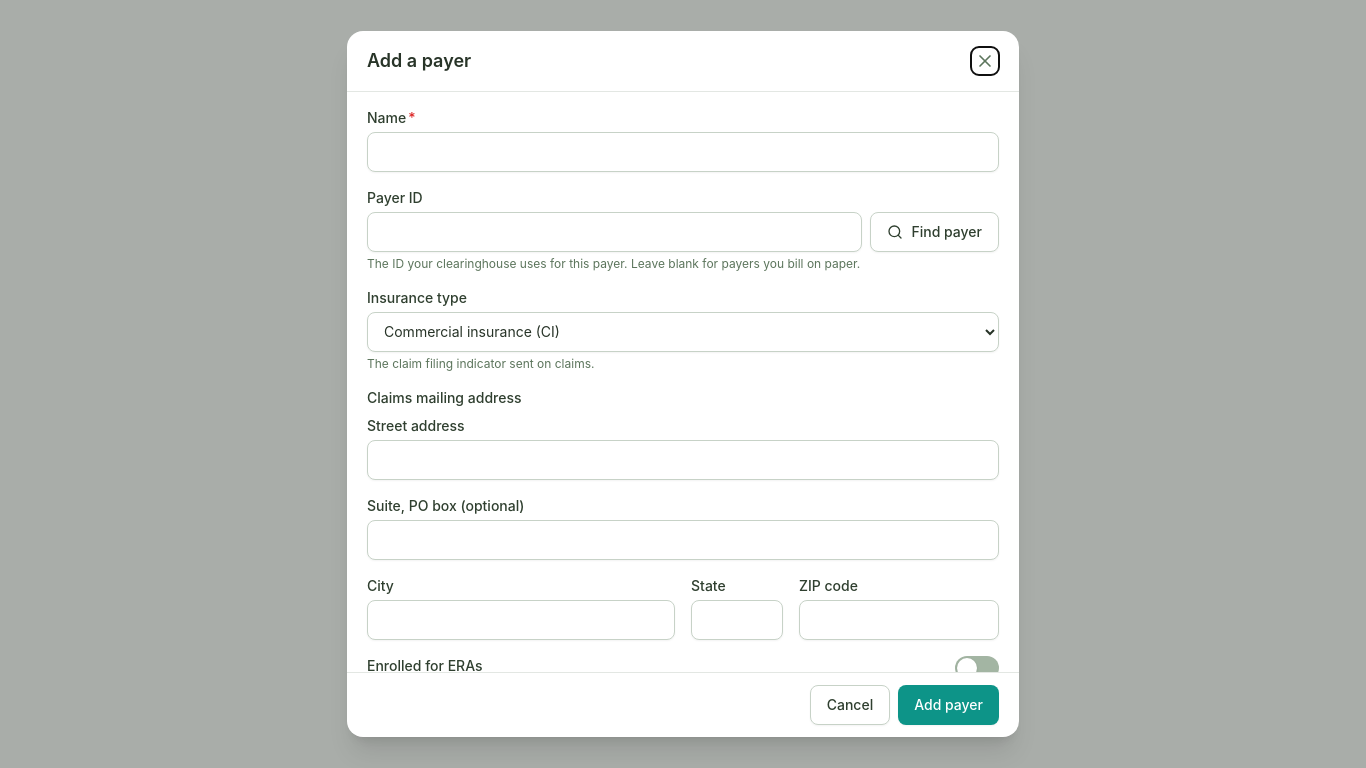
adding a payer › explains when the clearinghouse search fails
Click the button "Find payer". click: (935, 232)
box: [870,212,999,252]
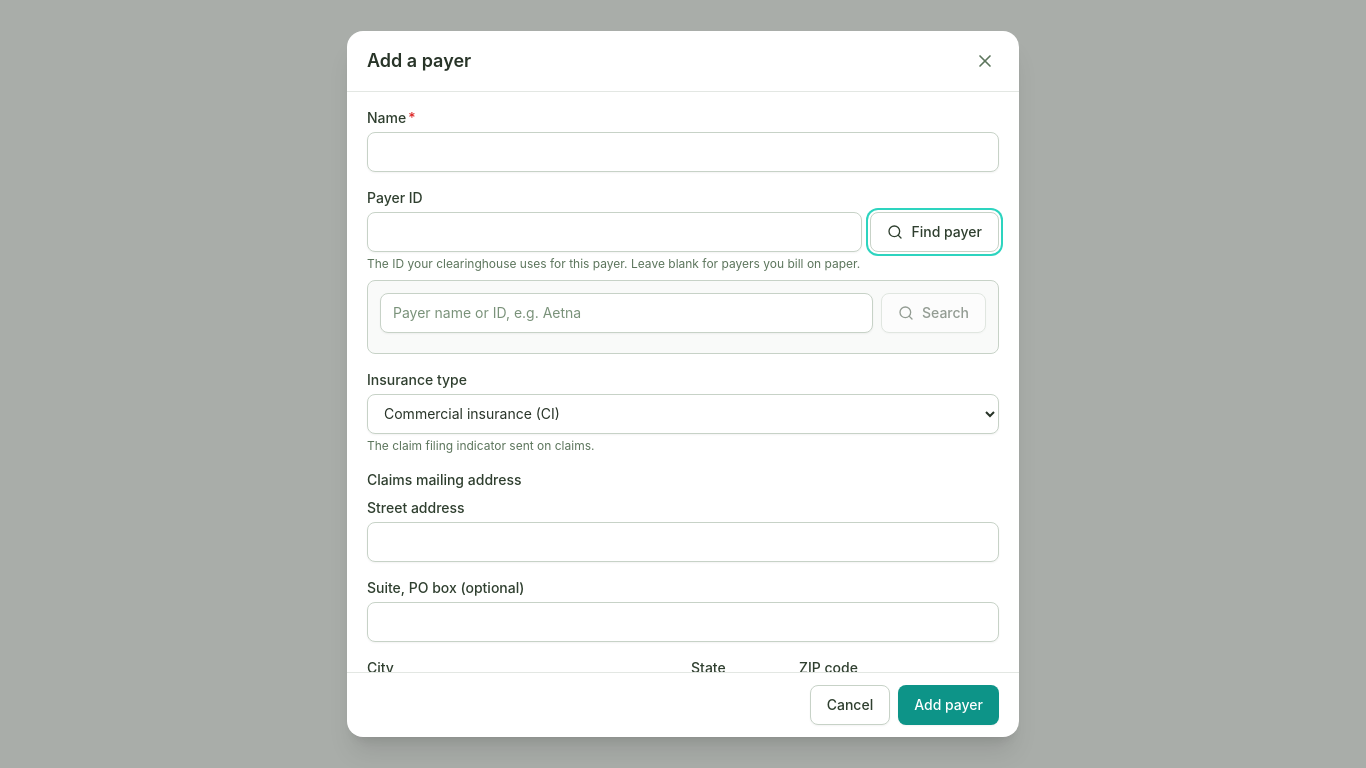
Type "aetna" into the field labelled "Payer name or ID". click: (626, 313)
box: [380,293,873,333]
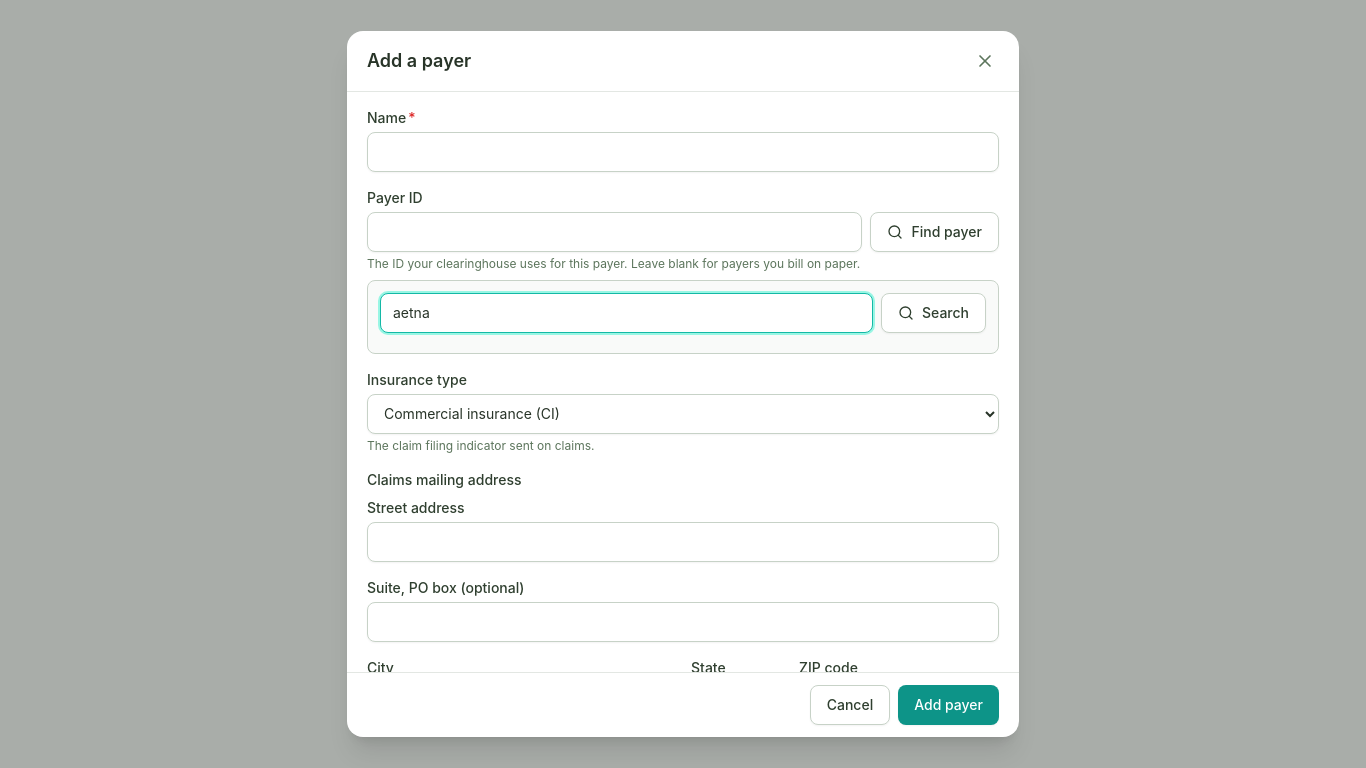
Click the button "Search". click: (934, 313)
box: [881,293,986,333]
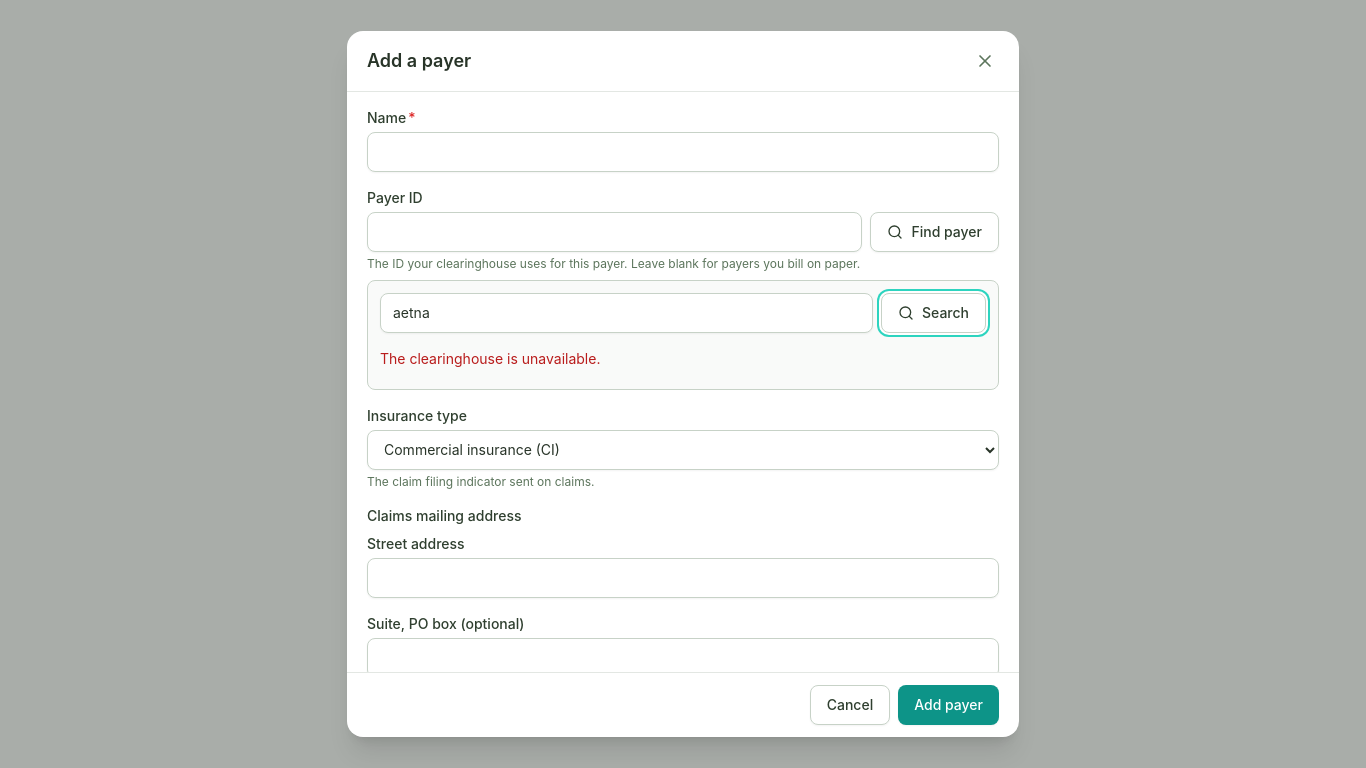
Check: the text "The clearinghouse is unavailable." is shown, box [380,350,600,367]
